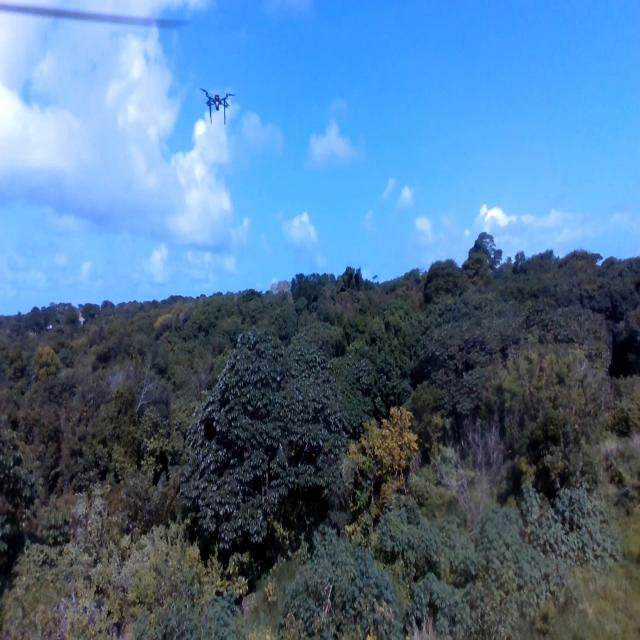-uav-: (198, 74, 238, 130)
